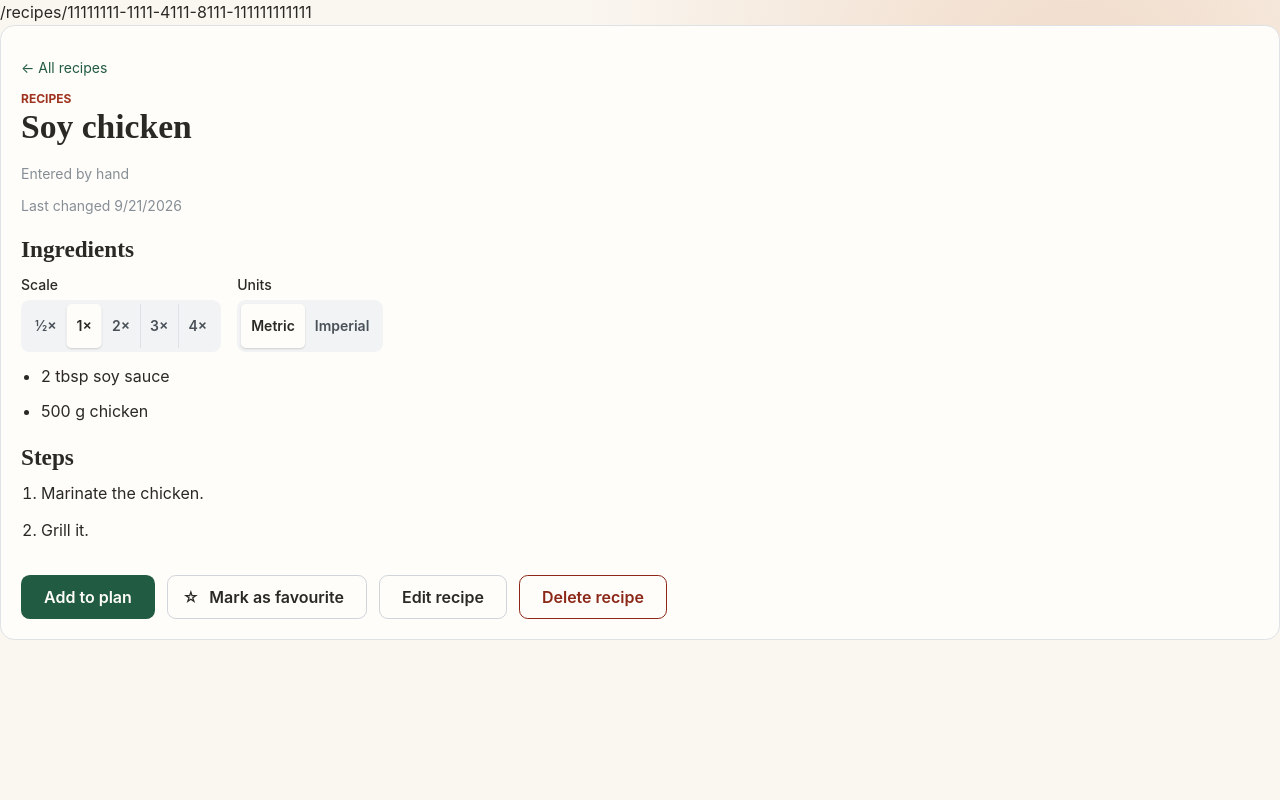
Recipe deletion › reports a failed delete and keeps the recipe on screen
Click the button "Delete recipe" at (593, 597), box top-left (519, 575), bottom-right (667, 619)
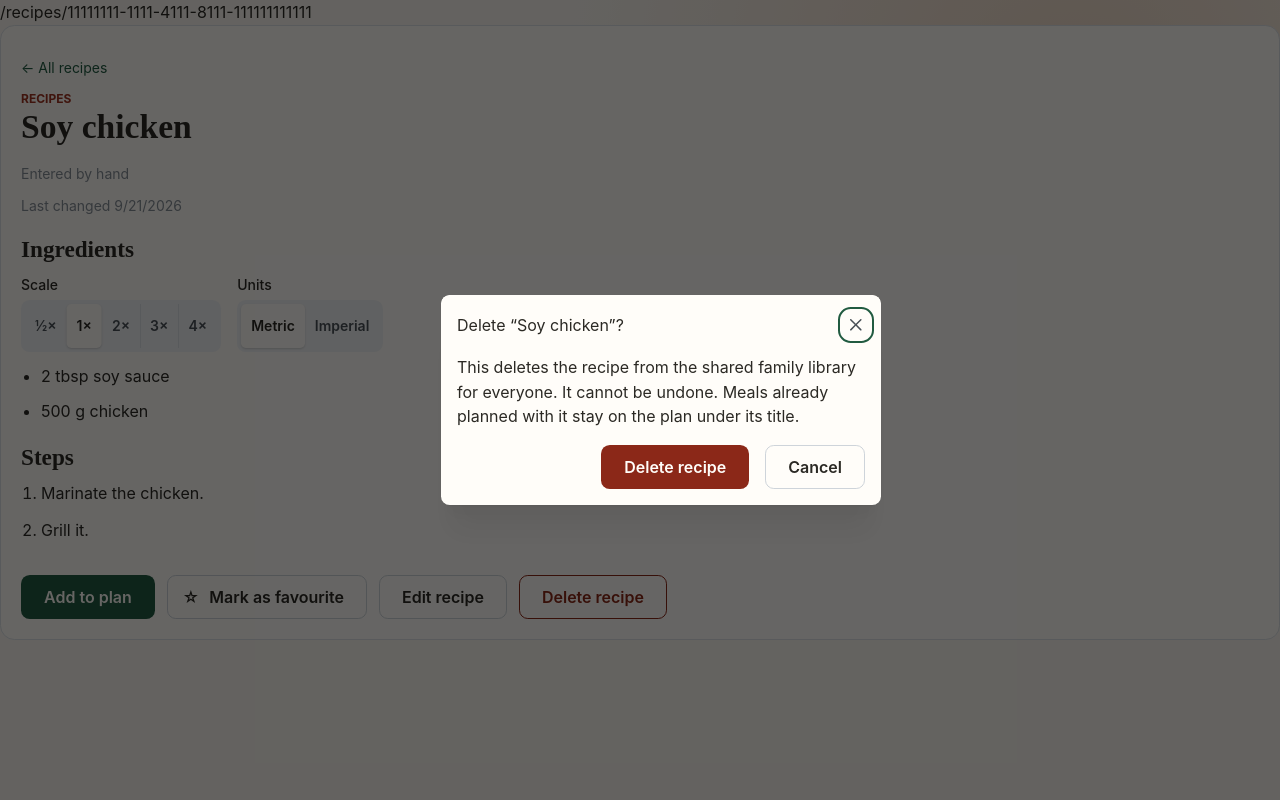
Click the button "Delete recipe" at (675, 467), box top-left (601, 445), bottom-right (749, 489)
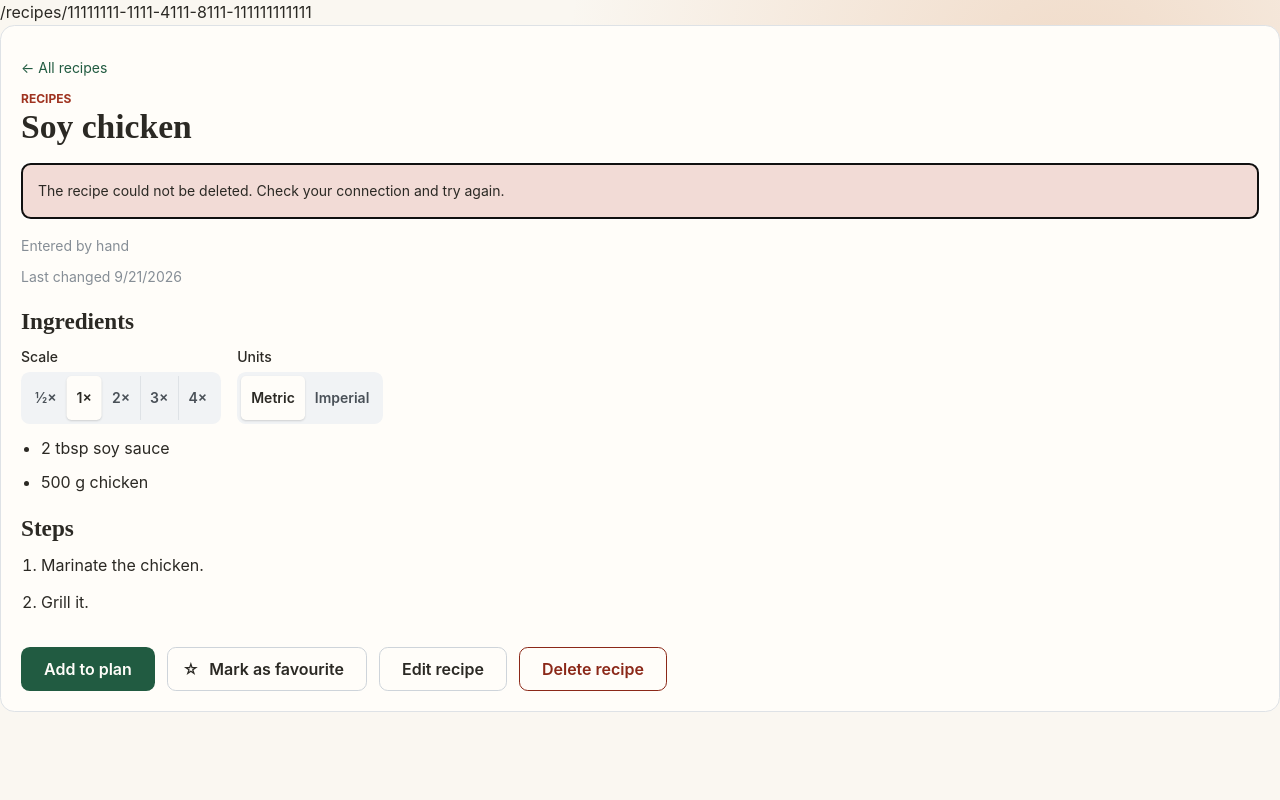
Check: the heading "Soy chicken" is shown, box top-left (21, 108), bottom-right (192, 145)
Check: the text "The recipe could not be deleted. Check your connection and try again." is shown, box top-left (38, 182), bottom-right (504, 199)
